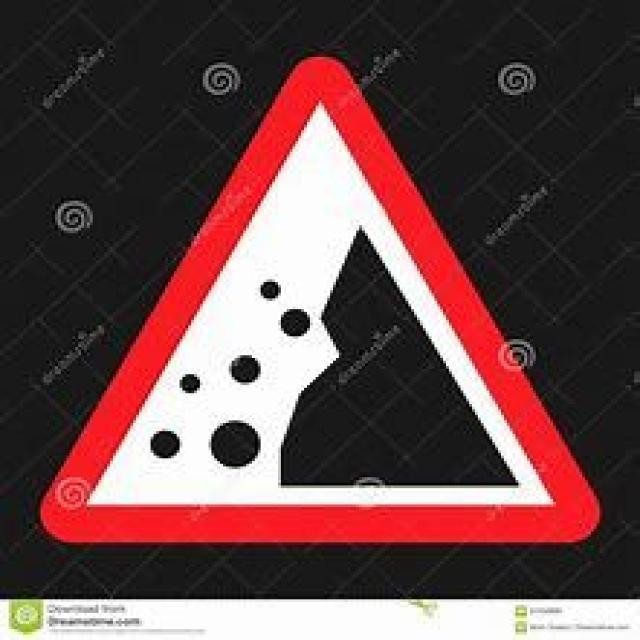falling rocks: (38, 48, 608, 552)
